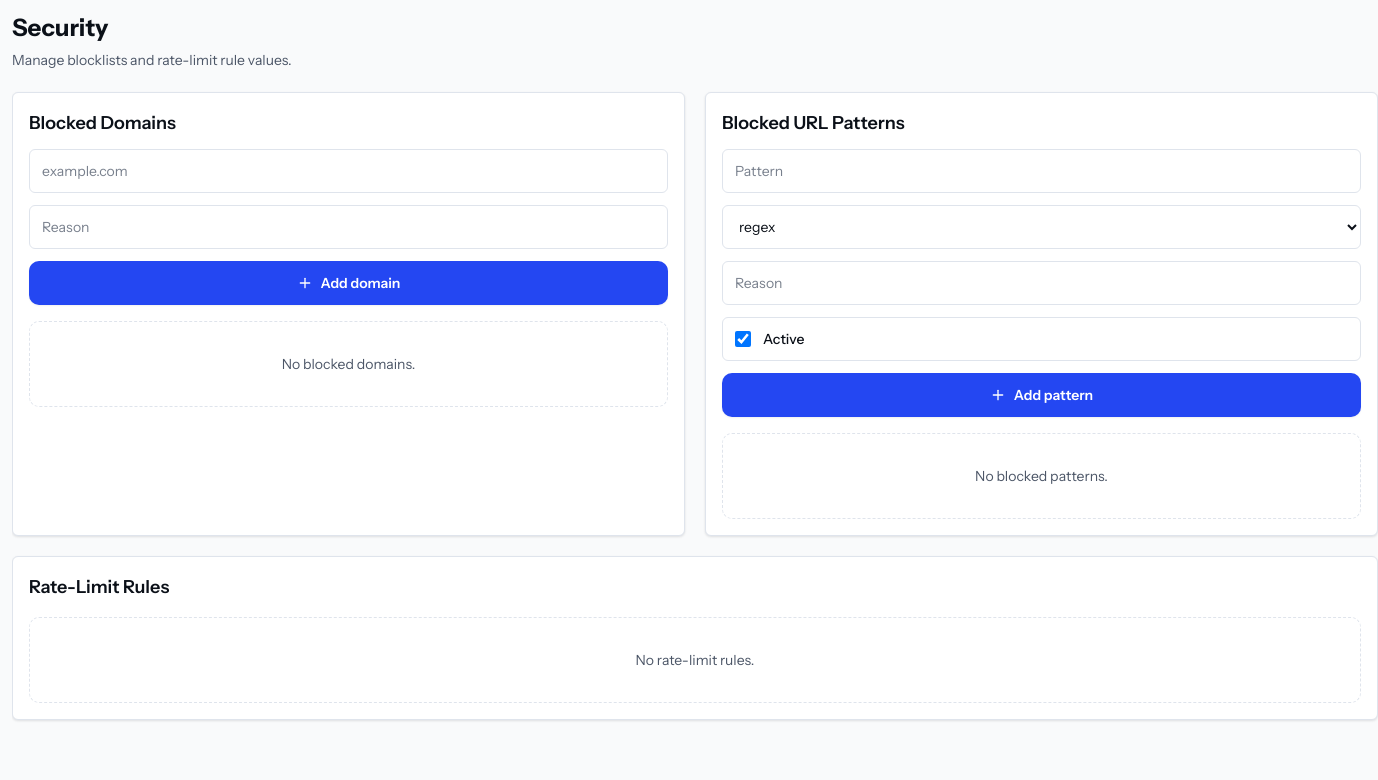
Test: SecurityPage › rejects invalid blocked domains before mutation
The width and height of the screenshot is (1378, 780).
Expected: the text "No blocked domains." is shown, [29, 321, 668, 407]
Type "127.0.0.1" into the field with placeholder "example.com".
click(348, 171); type("127.0.0.1")  # box [29, 149, 668, 193]
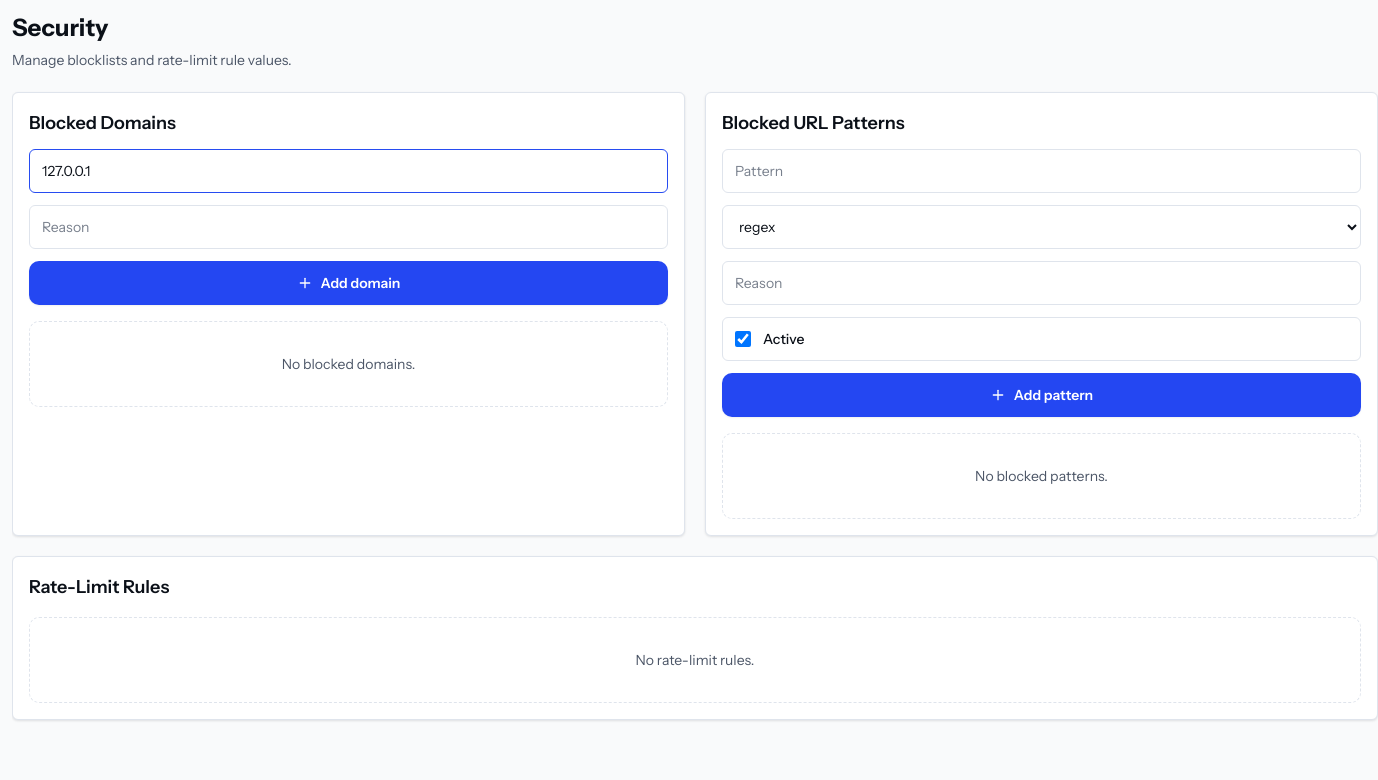
Click the button "Add domain".
click(348, 283)  # box [29, 261, 668, 305]
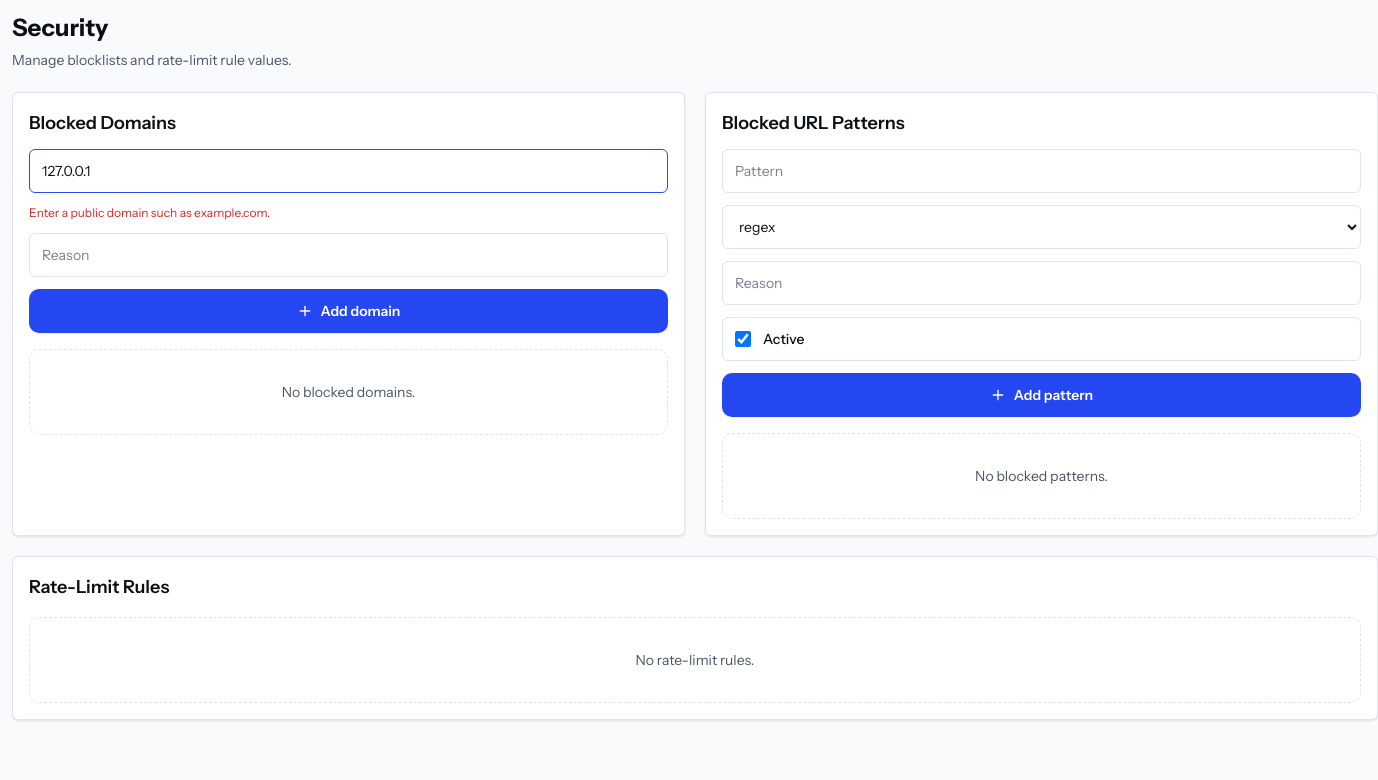
Now the text "Enter a public domain such as example.com." is shown, box [29, 205, 270, 220]
